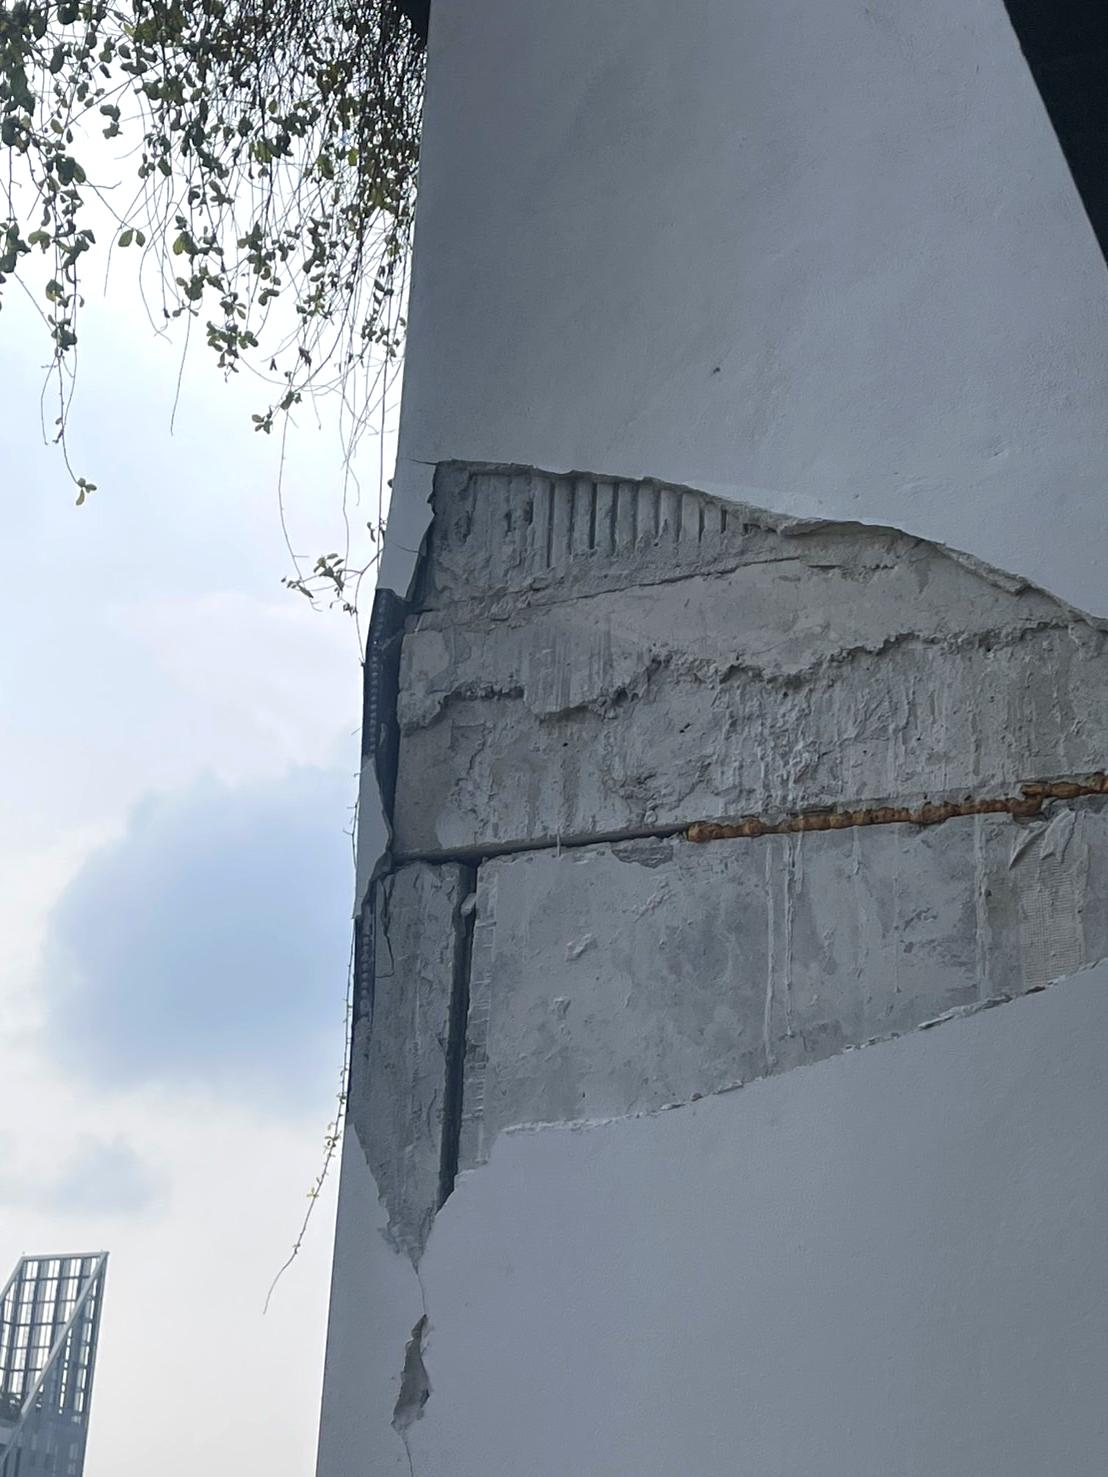High: (339, 434, 1108, 1468)
